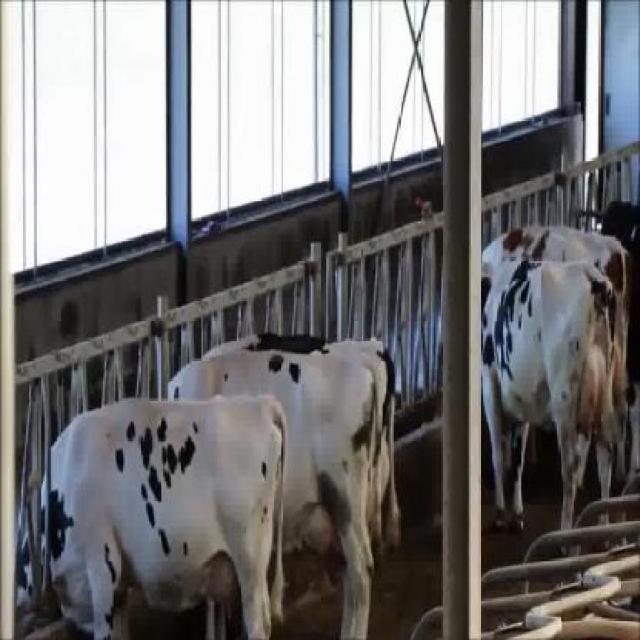Cow: (168, 331, 398, 638), (16, 392, 290, 638), (480, 254, 622, 554)
